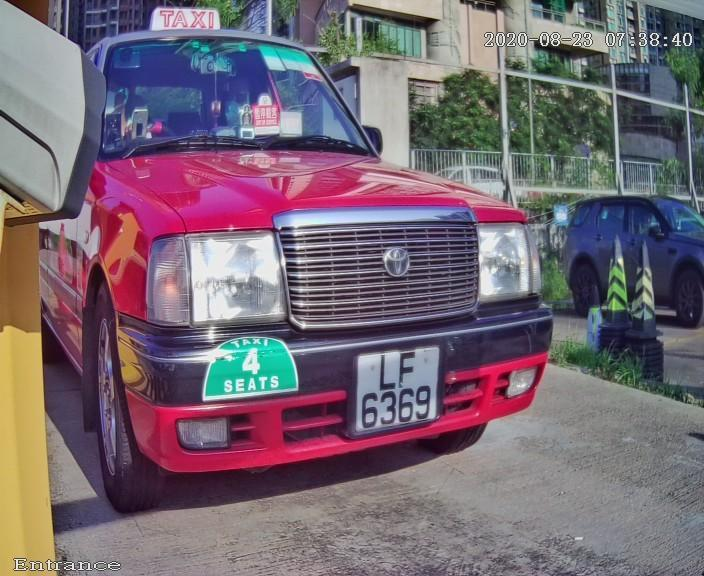Car: (4, 3, 610, 530)
License Plate: (337, 337, 450, 435)
